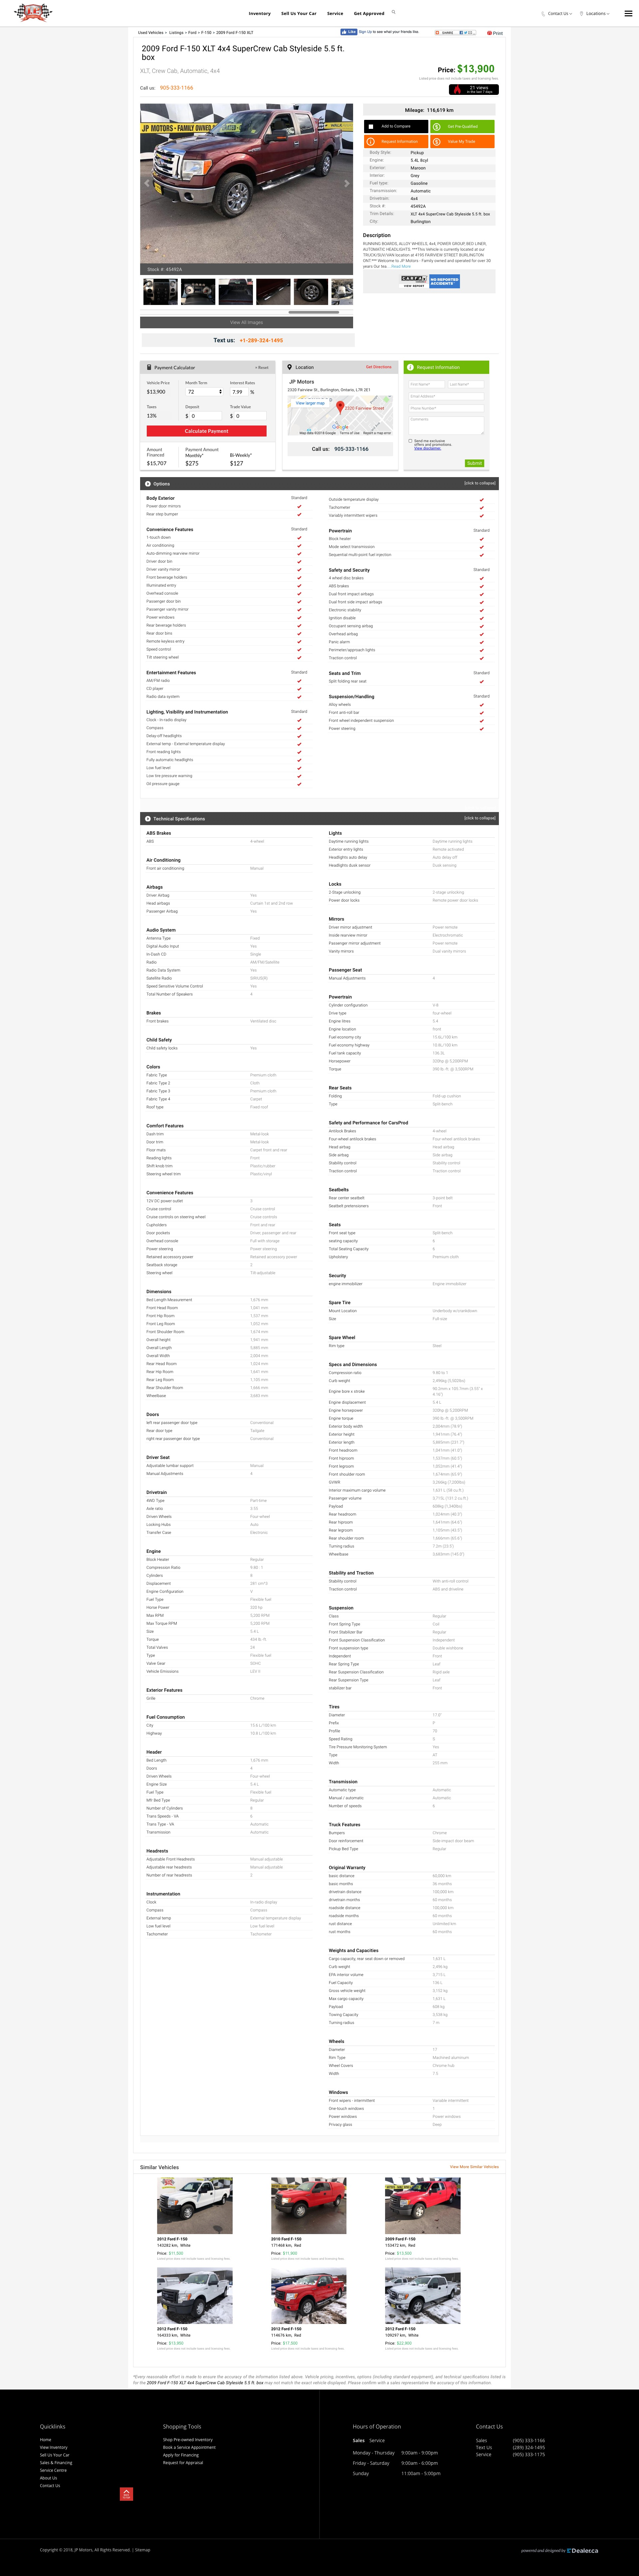car: (340, 177, 353, 191)
